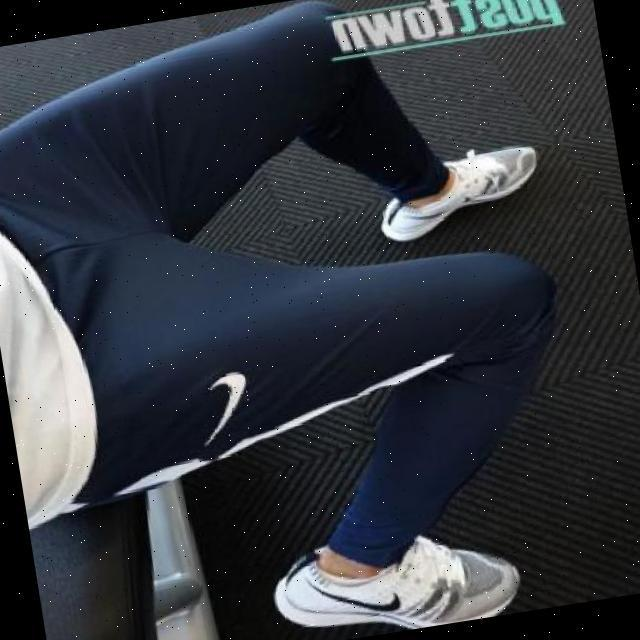Nike: (199, 370, 257, 441)
